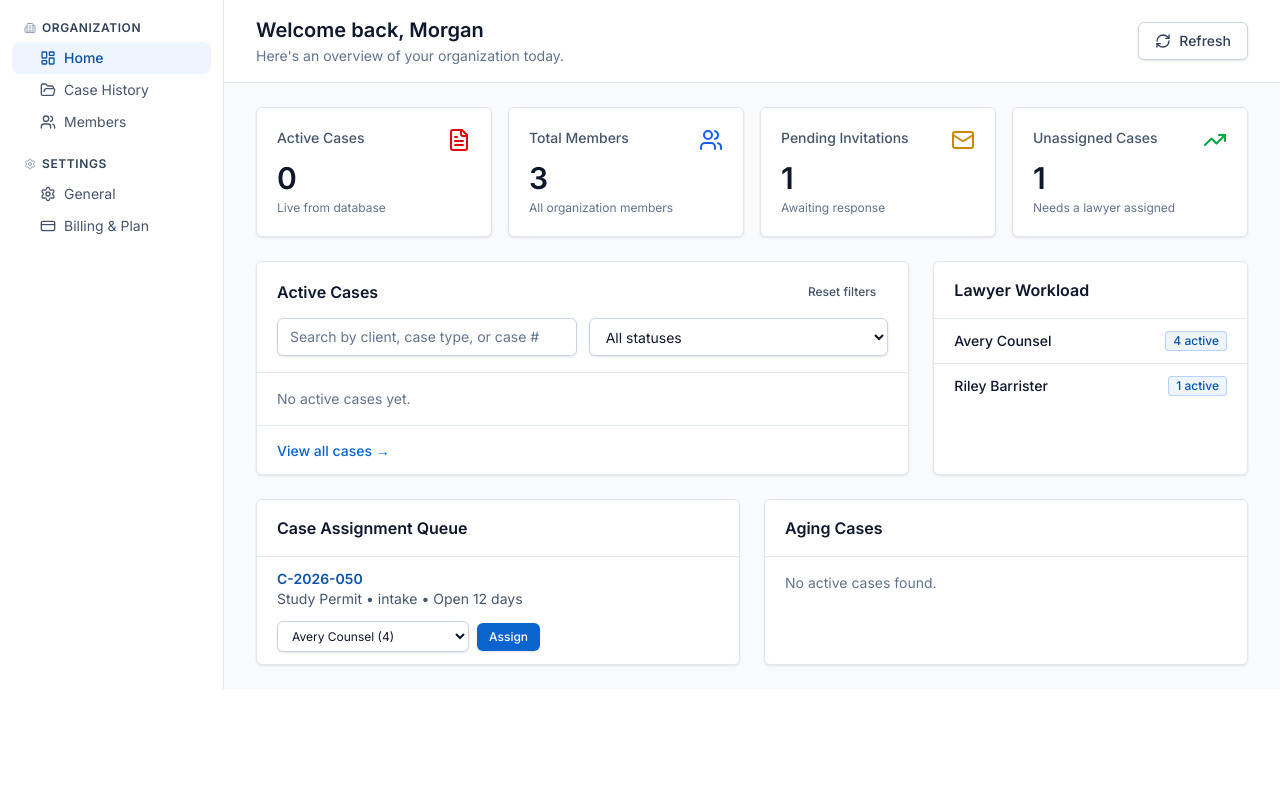
Test: AdminDashboard home › CT-ADMIN-04: reports a failed case assignment
Expected: the heading "Welcome back, Morgan" is shown, [256,18,484,42]
Click the button "Assign".
click(509, 636)  # box [477,622,540,650]
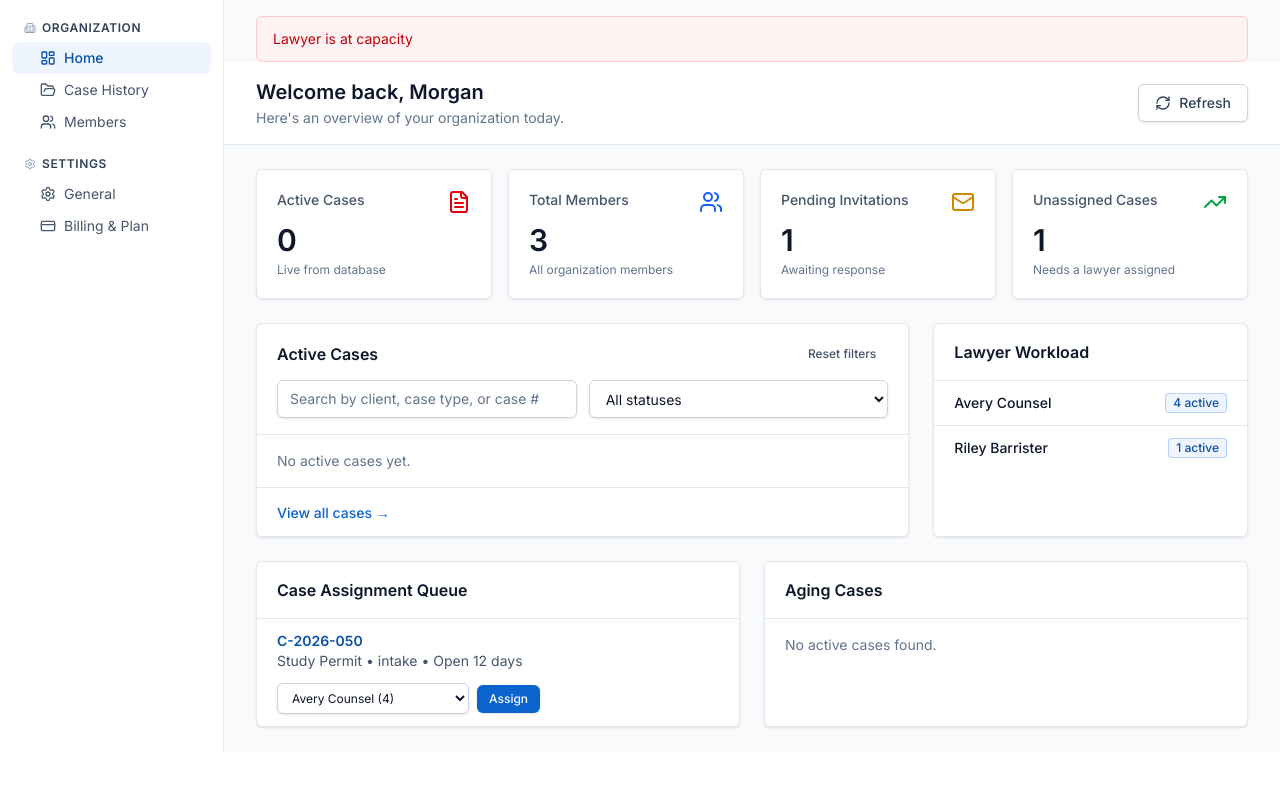
Expected: the text "Lawyer is at capacity" is shown, [256,16,1248,62]
